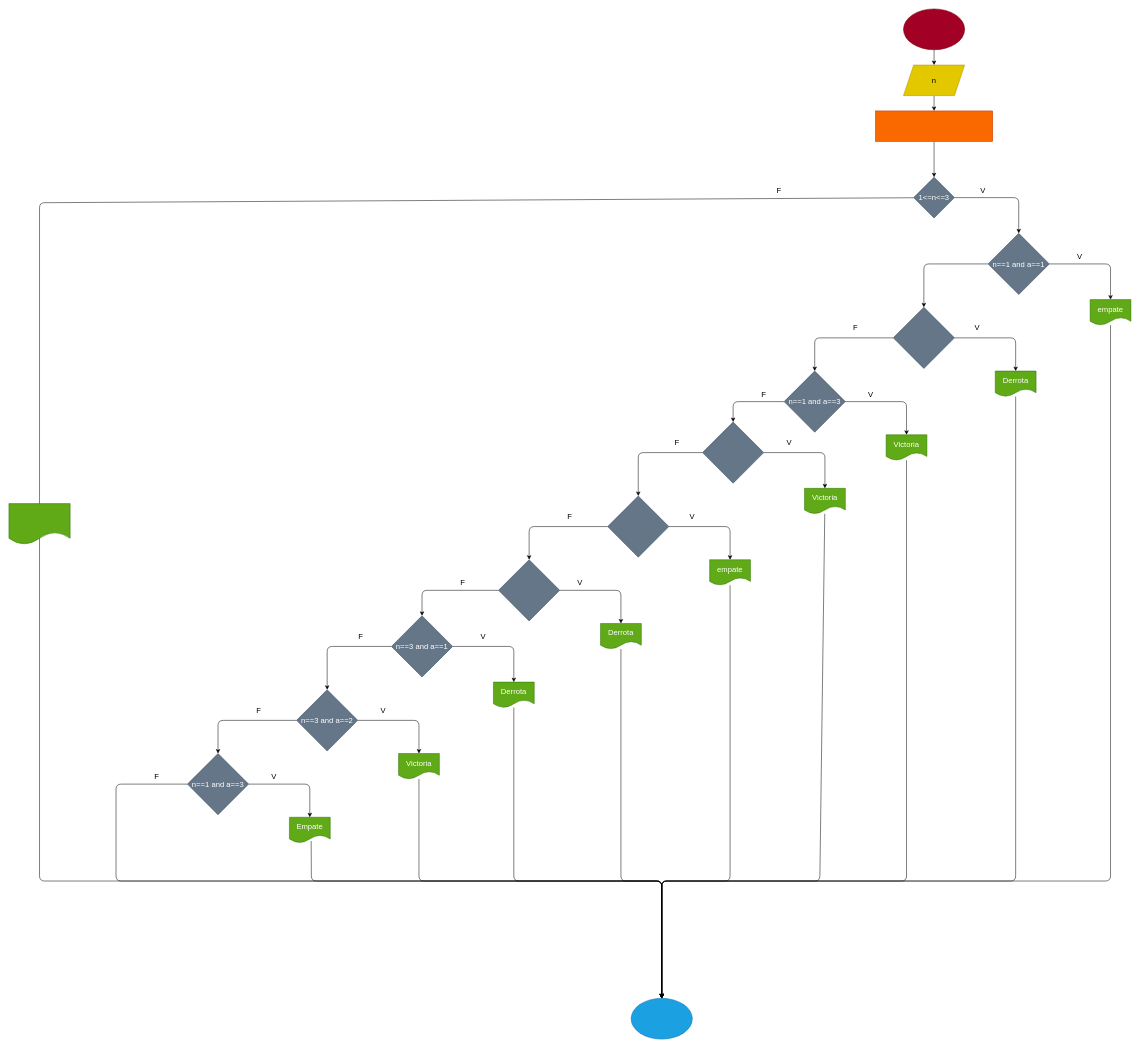
The diagram is 1140 pixels wide and 1048 high, and some of its shapes have lost their labels. The shapes that lost their labels are listed below. From the top down, each one's centre as x and y in pixels, then its label:
[934,29]: inicio
[934,126]: a=random.randint(1,3)
[923,337]: n==1 and a==2
[733,452]: n==2 and a==1
[39,523]: Opcion incorrecta
[638,526]: n==2 and a==2
[529,590]: n==2 and a==3
[661,1018]: fin
